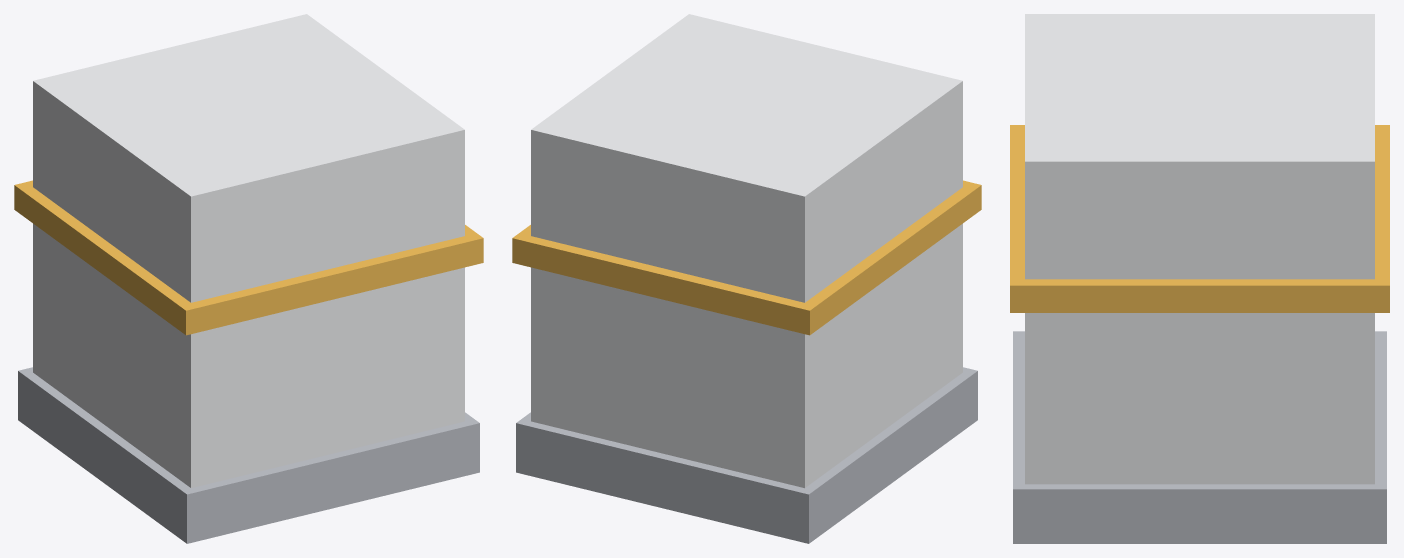
File: astronauta_manga_sup.glb
The picture shows the model from 3 angles, left to right: view 1: azimuth 30°, elevation 25°; view 2: azimuth 150°, elevation 25°; view 3: azimuth 270°, elevation 25°; orthographic projection. The views are drawn at different scales.
Parts seen in each view (by area): view 1: astronauta_manga_sup; view 2: astronauta_manga_sup; view 3: astronauta_manga_sup.
Boxes of the visible parts, x1,y1,x2,y2 form: astronauta_manga_sup: (14,14,483,543); astronauta_manga_sup: (512,14,981,543); astronauta_manga_sup: (1010,14,1389,543).
Bounding box in the file's own units: 0.315 × 0.345 × 0.315.
